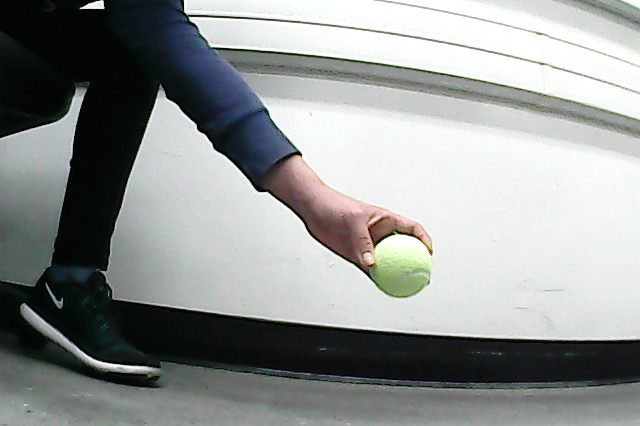ball: (366, 234, 435, 300)
